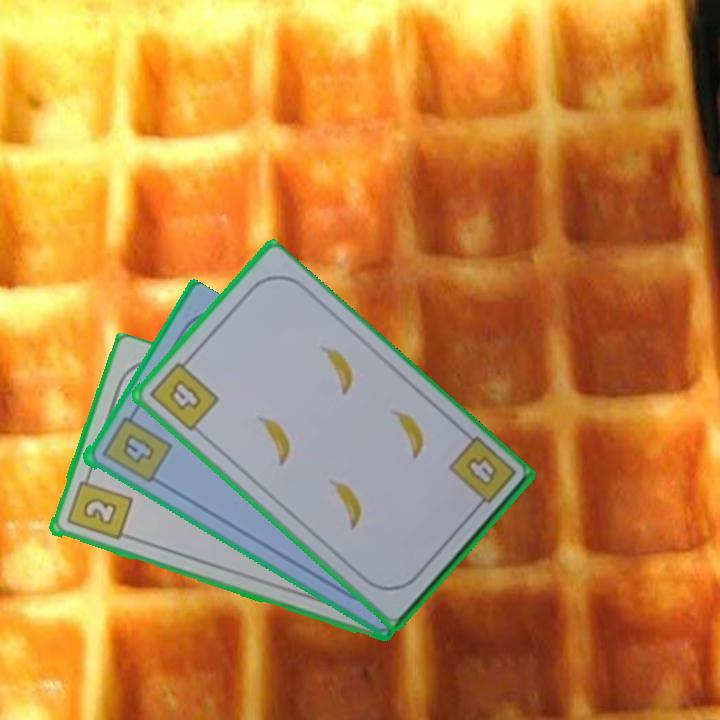2b: (62, 469, 134, 543)
4b: (145, 353, 222, 435), (445, 433, 519, 516), (97, 407, 174, 486)
